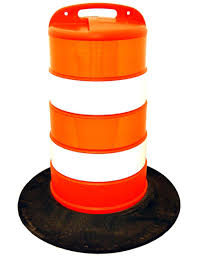barrel: (48, 7, 147, 214)
